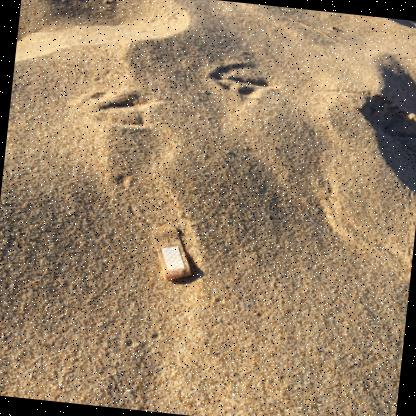Other plastic bottle: (151, 225, 191, 280)
